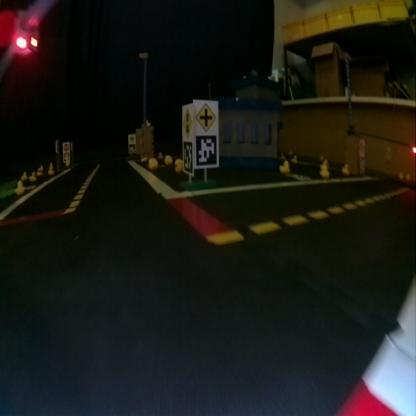Duckie: (279, 160, 288, 172), (15, 181, 24, 193), (147, 157, 157, 167), (176, 159, 183, 171), (319, 165, 328, 174), (342, 164, 349, 173), (29, 172, 36, 180)
Intersection sign: (196, 101, 216, 132), (129, 135, 134, 142)
QR code: (196, 134, 217, 166), (182, 141, 192, 175), (128, 143, 135, 152), (63, 152, 69, 160)
Signal sign: (182, 102, 192, 140)
Stop sign: (63, 143, 69, 150)
